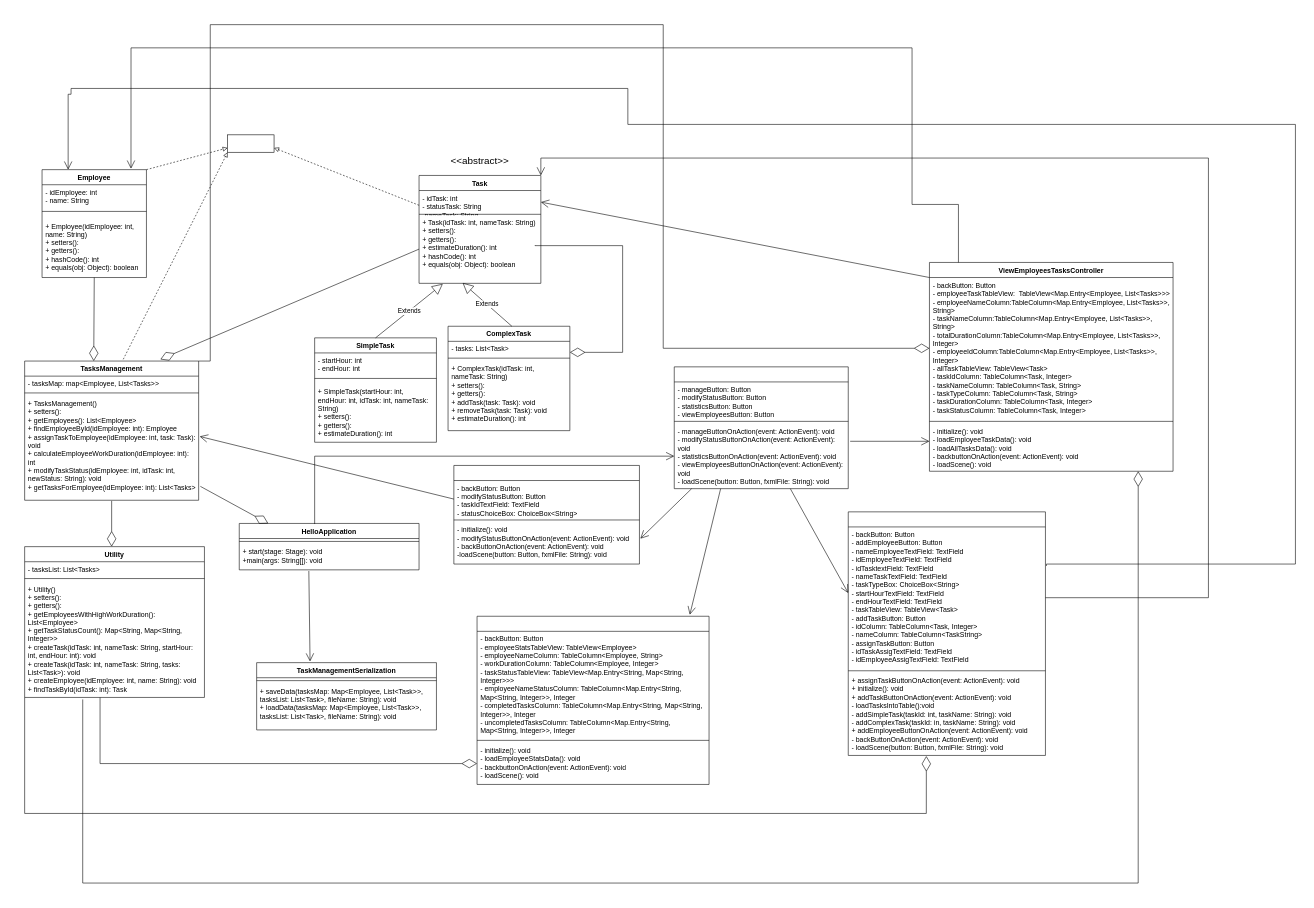
This 1314x908 diagram has some shape labels left out. Each missing label, with the box of its shape:
HomePageController: (674, 366, 848, 489)
ManageEmployeesAndTasksController: (848, 511, 1045, 755)
ModifyTaskStatusController: (453, 465, 639, 564)
StatisticsController: (476, 616, 709, 784)
«interface» Serializable: (227, 134, 274, 152)
